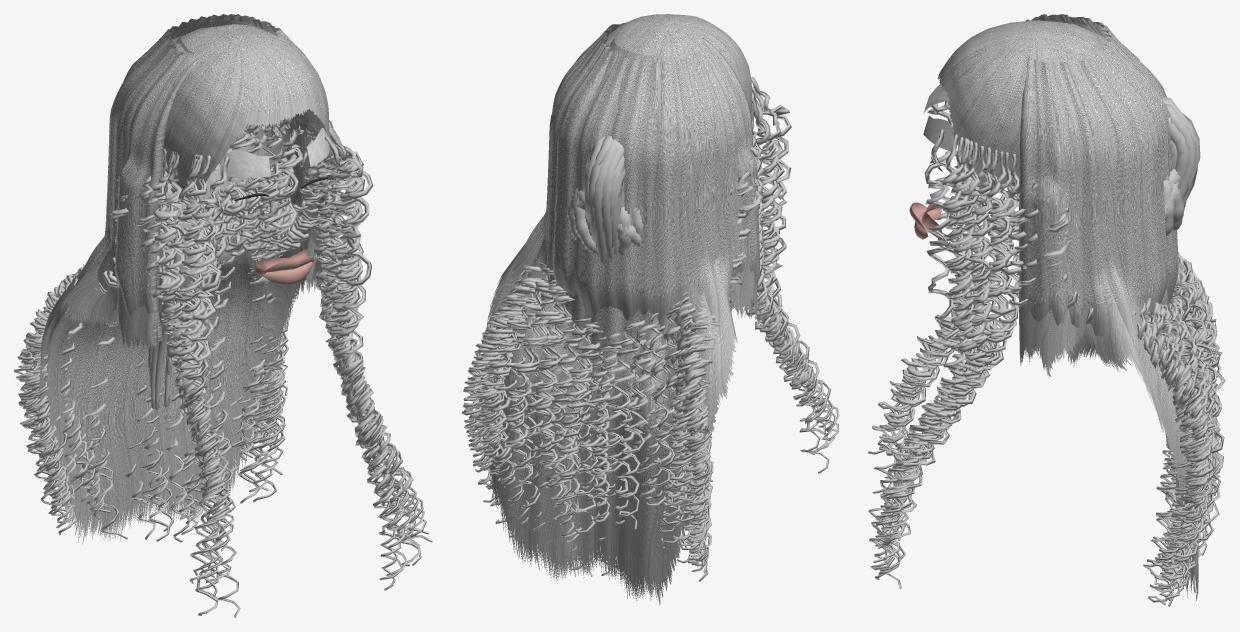
File: NC_Head_Female_Hair3.fbx
3 views of the same model, side by side, from view 1: azimuth 30°, elevation 25°; view 2: azimuth 150°, elevation 25°; view 3: azimuth 270°, elevation 25° (orthographic). The views are drawn at different scales.
Parts seen in each view (by area): view 1: Hair_LongStraight_2, Hair_LongCurls_Cap_12, Hair_LongCurls_Cap_9, Hair_Bob_2, Hair_LongCurls_Cap_11, Hair_Bob, Hair_LongCurls_Cap_10, Hair_LongCurls_Cap_13, Hair_Ponytail_2, Hair_LowBun, Lips, Hair_LongStraight (+2 smaller); view 2: Hair_Bob_2, Hair_LongStraight_2, Hair_LongCurls_Cap_11, Hair_LongCurls_Cap_9, Hair_LongCurls_Cap_12, Hair_LongCurls_Cap_10, Hair_LongCurls_Cap_13, Hair_Bob, Hair_Ponytail, Hair_LowBun, Hair_LowBun_2; view 3: Hair_Bob_2, Hair_LongStraight_2, Hair_LongCurls_Cap_11, Hair_LongCurls_Cap_9, Hair_LongCurls_Cap_10, Hair_Bob, Hair_LongCurls_Cap_12, Hair_LongCurls_Cap_13, Hair_Ponytail, Hair_LongStraight, Hair_LowBun, Hair_Ponytail_2 (+1 smaller).
Part boxes in pixels (x1=…): Hair_LongStraight_2: x1=39, y1=14, x2=329, y2=544; Hair_LongCurls_Cap_12: x1=18, y1=116, x2=421, y2=617; Hair_LongCurls_Cap_9: x1=24, y1=127, x2=432, y2=582; Hair_Bob_2: x1=65, y1=14, x2=334, y2=348; Hair_LongCurls_Cap_11: x1=14, y1=122, x2=423, y2=601; Hair_Bob: x1=162, y1=24, x2=329, y2=205; Hair_LongCurls_Cap_10: x1=20, y1=124, x2=413, y2=551; Hair_LongCurls_Cap_13: x1=15, y1=117, x2=428, y2=596; Hair_Ponytail_2: x1=149, y1=202, x2=193, y2=409; Hair_LowBun: x1=162, y1=119, x2=331, y2=206; Lips: x1=254, y1=249, x2=314, y2=284; Hair_LongStraight: x1=167, y1=26, x2=313, y2=205; Hair_Bob_2: x1=508, y1=21, x2=760, y2=350; Hair_LongStraight_2: x1=486, y1=21, x2=757, y2=604; Hair_LongCurls_Cap_11: x1=463, y1=77, x2=836, y2=569; Hair_LongCurls_Cap_9: x1=463, y1=87, x2=832, y2=580; Hair_LongCurls_Cap_12: x1=467, y1=93, x2=838, y2=581; Hair_LongCurls_Cap_10: x1=461, y1=118, x2=809, y2=575; Hair_LongCurls_Cap_13: x1=463, y1=95, x2=839, y2=561; Hair_Bob: x1=605, y1=14, x2=753, y2=122; Hair_Ponytail: x1=584, y1=135, x2=625, y2=417; Hair_LowBun: x1=566, y1=190, x2=598, y2=256; Hair_LowBun_2: x1=573, y1=188, x2=643, y2=255; Hair_Bob_2: x1=1019, y1=14, x2=1178, y2=368; Hair_LongStraight_2: x1=1019, y1=14, x2=1198, y2=600; Hair_LongCurls_Cap_11: x1=868, y1=100, x2=1222, y2=588; Hair_LongCurls_Cap_9: x1=869, y1=108, x2=1224, y2=588; Hair_LongCurls_Cap_10: x1=871, y1=138, x2=1225, y2=600; Hair_Bob: x1=937, y1=20, x2=1106, y2=190; Hair_LongCurls_Cap_12: x1=872, y1=149, x2=1221, y2=606; Hair_LongCurls_Cap_13: x1=868, y1=151, x2=1217, y2=604; Hair_Ponytail: x1=1162, y1=97, x2=1200, y2=448; Hair_LongStraight: x1=940, y1=37, x2=1069, y2=90; Hair_LowBun: x1=1164, y1=169, x2=1184, y2=235; Hair_Ponytail_2: x1=1166, y1=116, x2=1188, y2=443.
Size of the model in its own units: 0.948 by 1.9 by 1.09.
Materials: 4 (2 with a texture image).
